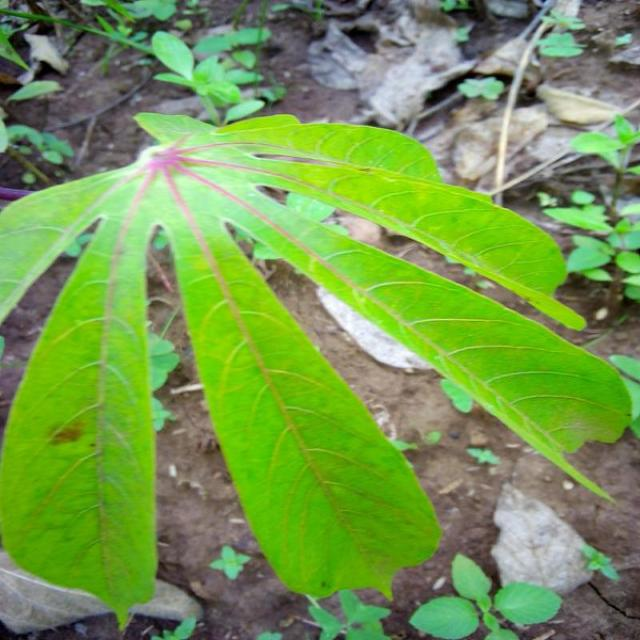cassava leaf: (1, 109, 636, 629)
